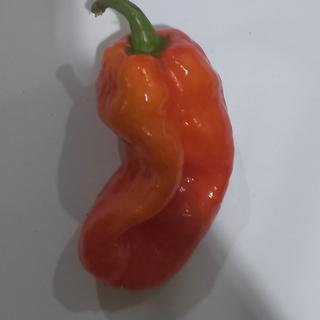Grade-A: (72, 23, 238, 296)
